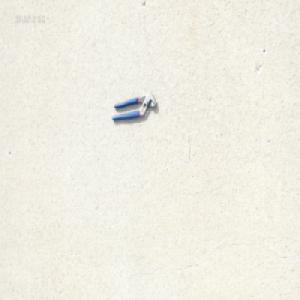Pliers: (111, 91, 158, 122)
